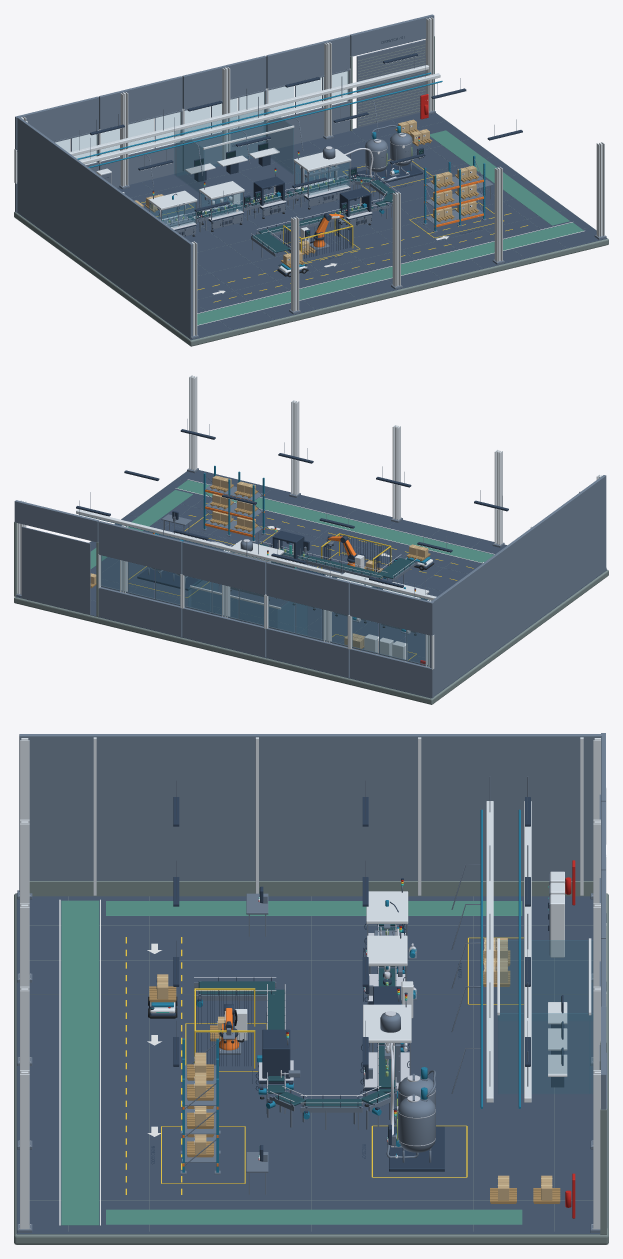
The model's file is hall.glb.
3 views of the same model, one above another, from view 1: azimuth 30°, elevation 25°; view 2: azimuth 150°, elevation 25°; view 3: azimuth 270°, elevation 25° (orthographic). The views are drawn at different scales.
Parts seen in each view (by area): view 1: Sealed epoxy floor, West wall, Reinforced floor slab, Pedestrian route, Loading shutter, Back wall upper.003, Back wall upper.002, Back wall upper.001, Control room rear, Back wall upper, Side pedestrian route.001, Back insulated wall lower.003 (+23 smaller); view 2: Sealed epoxy floor, West wall, Loading shutter, Reinforced floor slab, Back wall upper.002, Back wall upper.003, Back wall upper.001, Back wall upper, Pedestrian route, Back insulated wall lower.002, Back insulated wall lower.003, Back insulated wall lower (+23 smaller); view 3: Sealed epoxy floor, West wall, Pedestrian route, Reinforced floor slab, Wall impact skirting, Control room side.001, Side pedestrian route.001, Control room side, Side pedestrian route, Overhead service trunk, Dished sanitary vessel.001, Overhead service trunk.001 (+17 smaller).
Part boxes in pixels (x1,y1,x2,y2): Sealed epoxy floor: (17,113,606,339); West wall: (17,117,192,338); Reinforced floor slab: (14,113,608,346); Pedestrian route: (197,222,583,324); Loading shutter: (356,39,425,127); Back wall upper.003: (266,35,350,88); Back wall upper.002: (182,55,266,109); Back wall upper.001: (98,76,182,129); Control room rear: (177,109,265,175); Back wall upper: (15,96,98,149); Side pedestrian route.001: (430,130,569,225); Back insulated wall lower.003: (266,102,350,149); Sealed epoxy floor: (16,470,606,698); West wall: (430,475,606,695); Loading shutter: (21,526,90,614); Reinforced floor slab: (14,471,608,704); Back wall upper.002: (182,541,266,594); Back wall upper.003: (98,521,182,574); Back wall upper.001: (266,562,350,615); Back wall upper: (350,582,433,635); Pedestrian route: (177,480,494,562); Back insulated wall lower.002: (182,607,266,657); Back insulated wall lower.003: (98,587,182,636); Back insulated wall lower: (350,648,433,698); Sealed epoxy floor: (16,893,606,1234); West wall: (19,734,601,891); Pedestrian route: (61,900,99,1225); Reinforced floor slab: (14,893,608,1244); Wall impact skirting: (29,881,593,896); Control room side.001: (498,1013,592,1093); Side pedestrian route.001: (106,1209,522,1224); Control room side: (498,940,592,1020); Side pedestrian route: (106,901,522,915); Overhead service trunk: (486,801,493,1102); Dished sanitary vessel.001: (398,1096,435,1152); Overhead service trunk.001: (524,801,531,1102).
Size of the model in its own units: 30.01 by 6.97 by 22.
